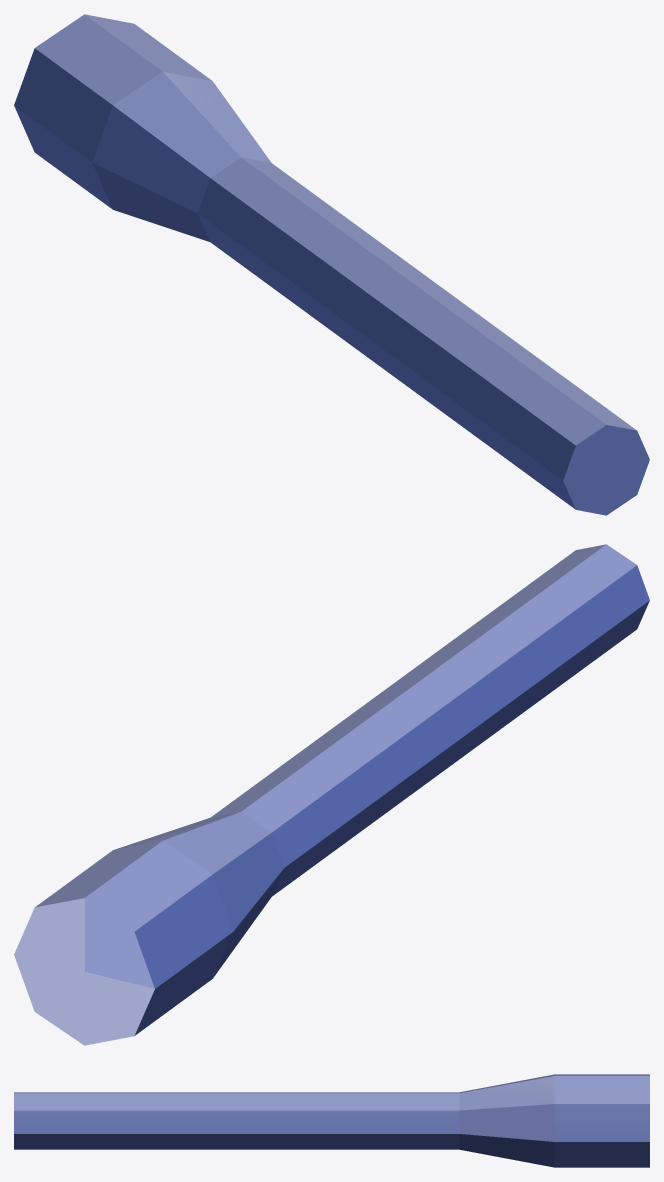
File: prop.tool.glb
3 views of the same model, one above another, from view 1: azimuth 30°, elevation 25°; view 2: azimuth 150°, elevation 25°; view 3: azimuth 270°, elevation 25° (orthographic). The views are drawn at different scales.
Visible parts, largest first — view 1: kit_tool_head; view 2: kit_tool_head; view 3: kit_tool_head.
Part boxes in pixels (x1,y1,x2,y2): kit_tool_head: (14,14,649,515); kit_tool_head: (14,544,649,1045); kit_tool_head: (14,1074,649,1167).
Size of the model in its own units: 0.0624 by 0.0624 by 0.4.
2 materials, 1 textured.
